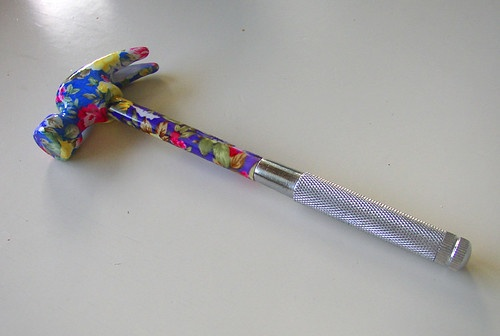hammer: (34, 42, 480, 281)
